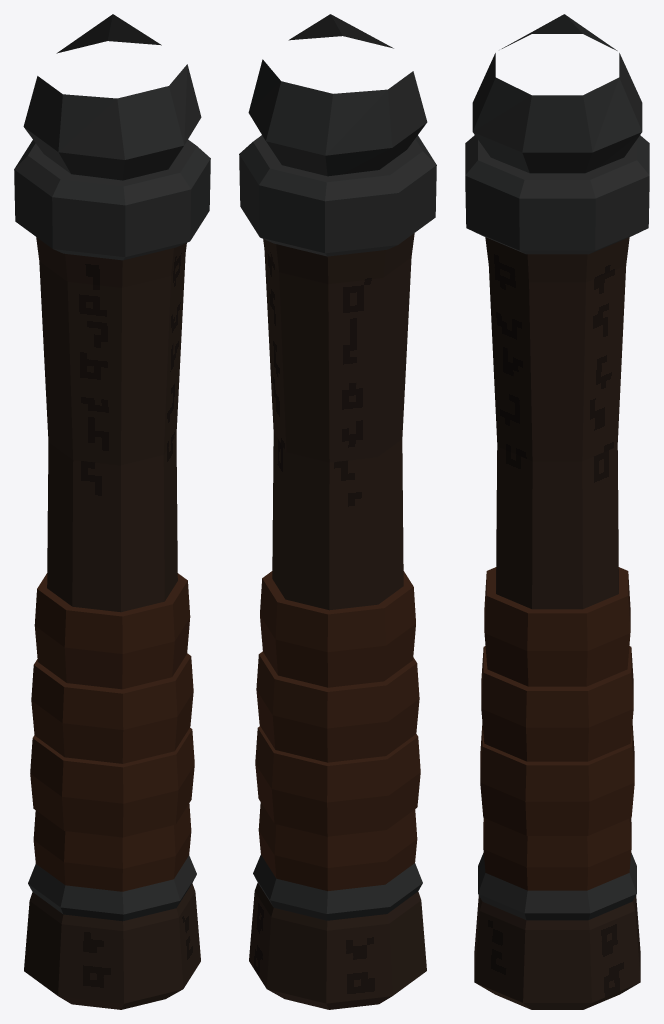
Rendered from guild_rune_focus.gltf.
The picture shows the model from 3 angles, left to right: view 1: azimuth 30°, elevation 25°; view 2: azimuth 150°, elevation 25°; view 3: azimuth 270°, elevation 25°; orthographic projection.
Visible parts, largest first — view 1: GuildRuneFocus; view 2: GuildRuneFocus; view 3: GuildRuneFocus.
Part boxes in pixels (x1,y1,x2,y2): GuildRuneFocus: (14, 14, 210, 1009); GuildRuneFocus: (239, 14, 436, 1009); GuildRuneFocus: (465, 14, 649, 1009).
Bounding box in the file's own units: 0.0947 × 0.55 × 0.0947.
1 material, 1 textured.
